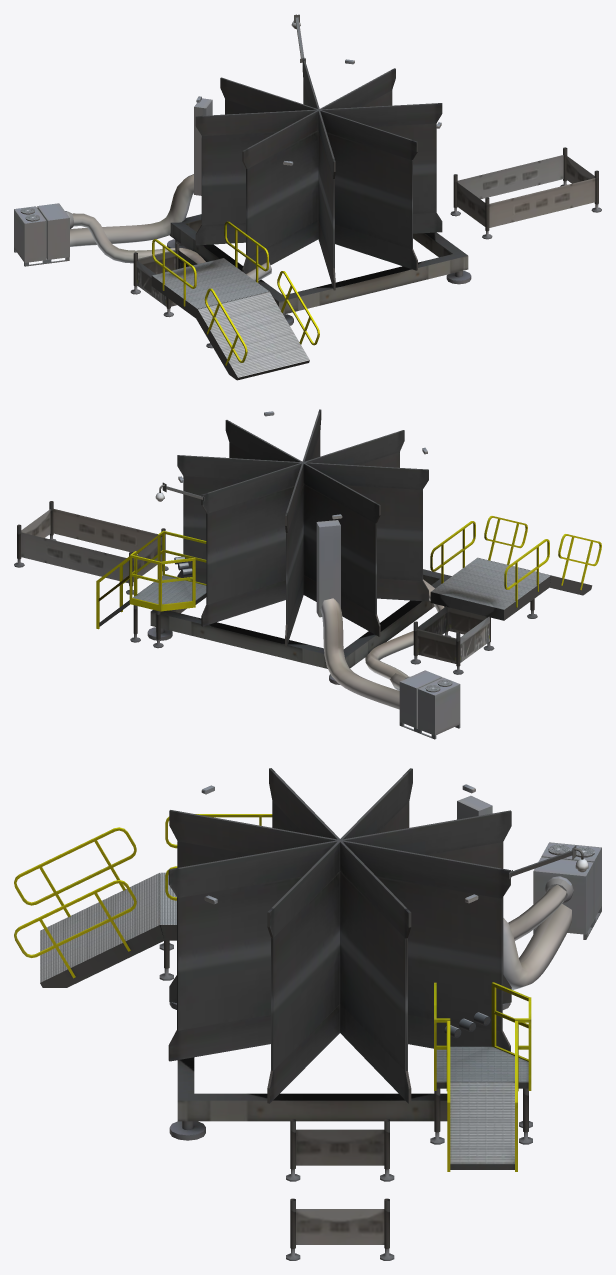
File: habitat-2.glb
3 views of the same model, one above another, from view 1: azimuth 30°, elevation 25°; view 2: azimuth 150°, elevation 25°; view 3: azimuth 270°, elevation 25° (orthographic). The views are drawn at different scales.
Parts seen in each view (by area): view 1: HDU_lowRez_part2; view 2: HDU_lowRez_part2; view 3: HDU_lowRez_part2.
Boxes of the visible parts, x1=… form: HDU_lowRez_part2: x1=14, y1=14, x2=601, y2=380; HDU_lowRez_part2: x1=14, y1=409, x2=601, y2=739; HDU_lowRez_part2: x1=14, y1=768, x2=601, y2=1260.
Bounding box in the file's own units: 656 × 226 × 459.
1 material, 1 textured.
